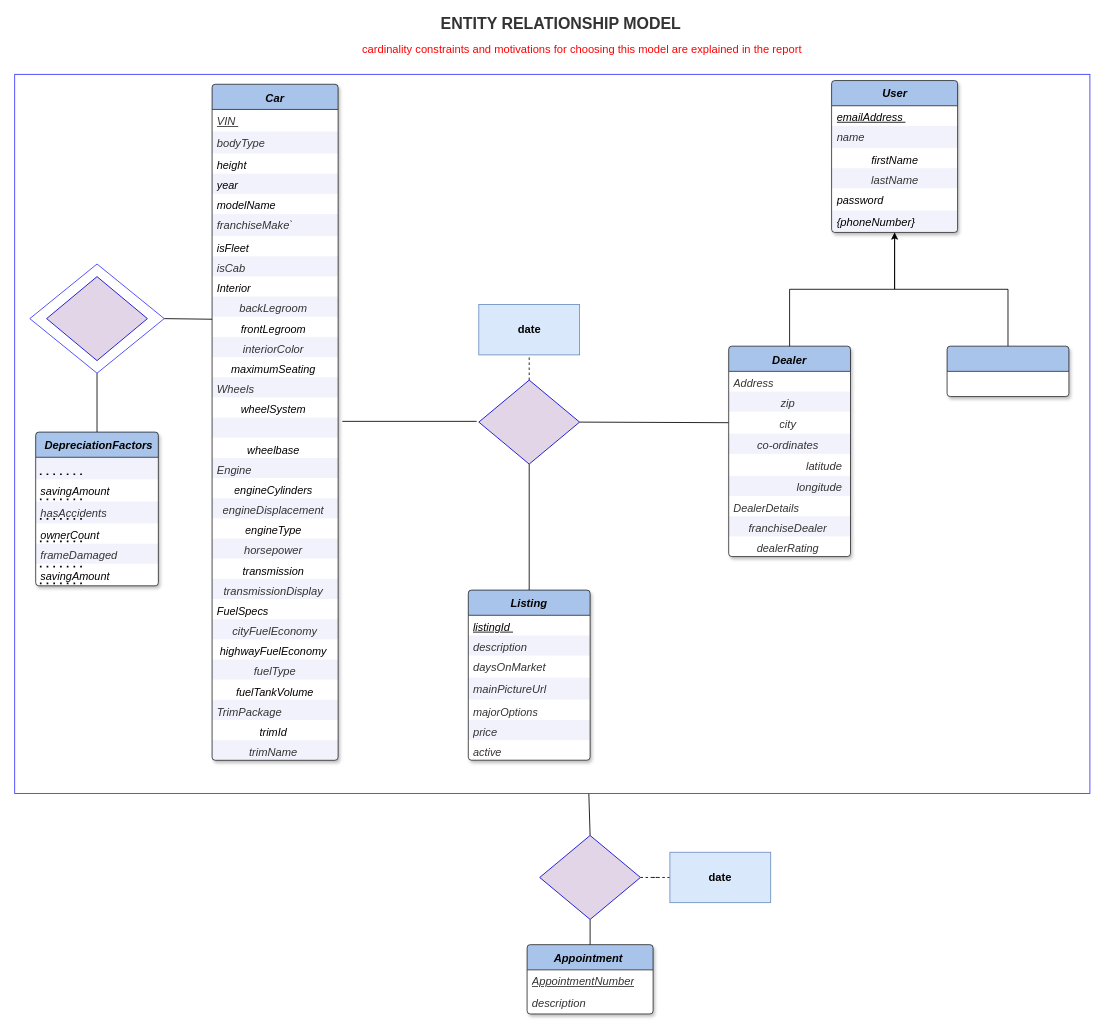
Image size: 1105x1035. Some labels were removed from this diagram. Here are the shapes that lost their labels. From the top down, the centre of each, then its label:
At pixel 96 318: "Effects Depreciation".
At pixel 1008 372: "Customer".
At pixel 275 427: "wheelSystemDisplay".
At pixel 529 421: "CarSale".
At pixel 96 468: "salvage".
At pixel 589 877: "meetFor".
